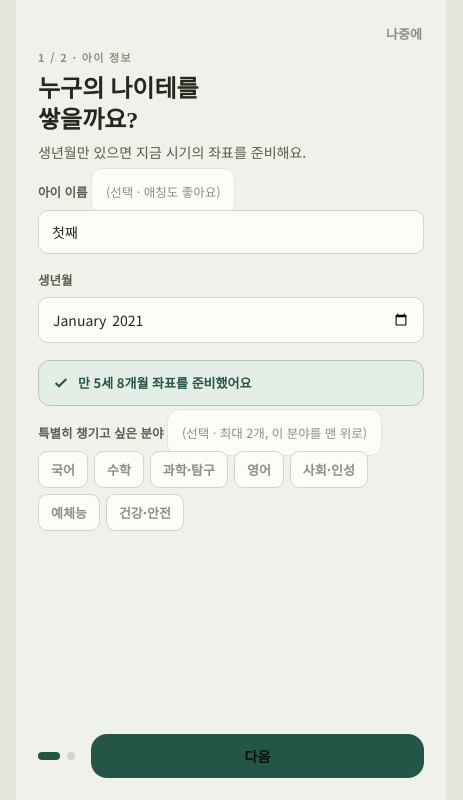
⭐ 빈 상태로 시작 + 셋업이 실제 데이터를 만든다 (제대로) › ⭐ §06-C 학원 칩(미술=등원형)을 누르면 예체능이 챙김으로 채워진다
Click the button "다음" at point(258, 756), box [91,734,424,778]
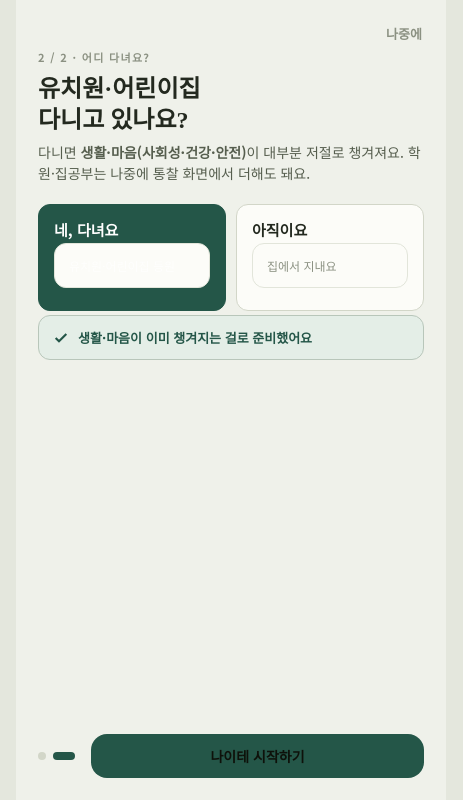
Click the button "나이테 시작하기" at point(258, 756), box [91,734,424,778]
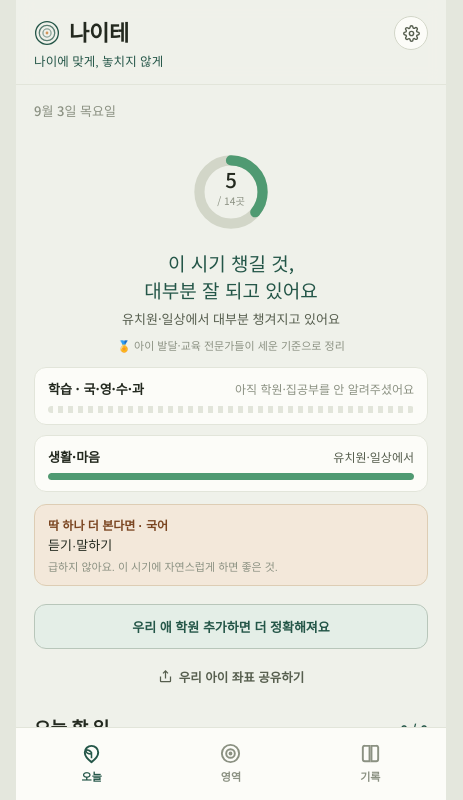
Click the button with test id "add-learn" at point(231, 627), box [34,604,428,649]
(page scrolled)
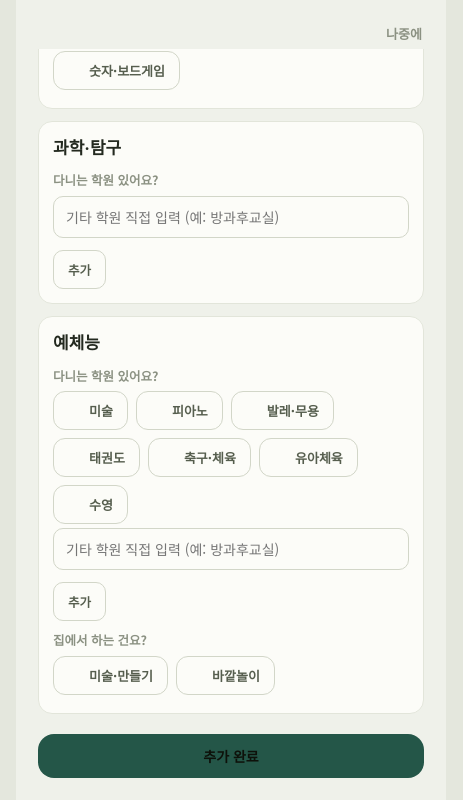
expect the element with test id "learn-picker" is shown: met
Click the button "미술" at point(90, 411), box [53,391,128,430]
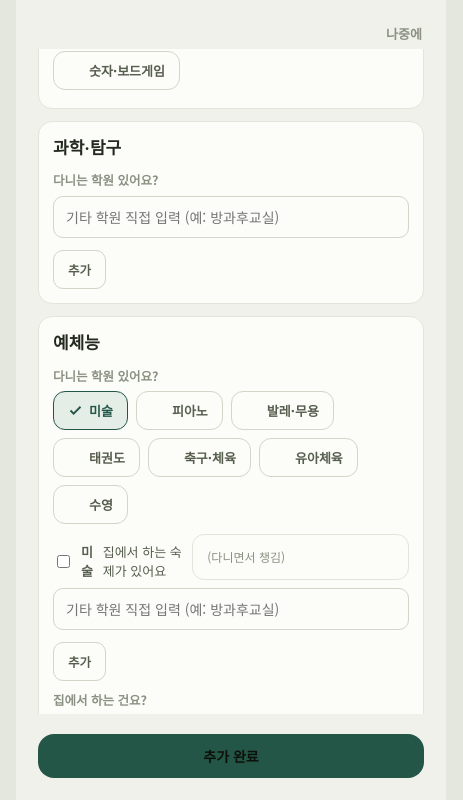
Click the button "추가 완료" at point(231, 756), box [38,734,424,778]
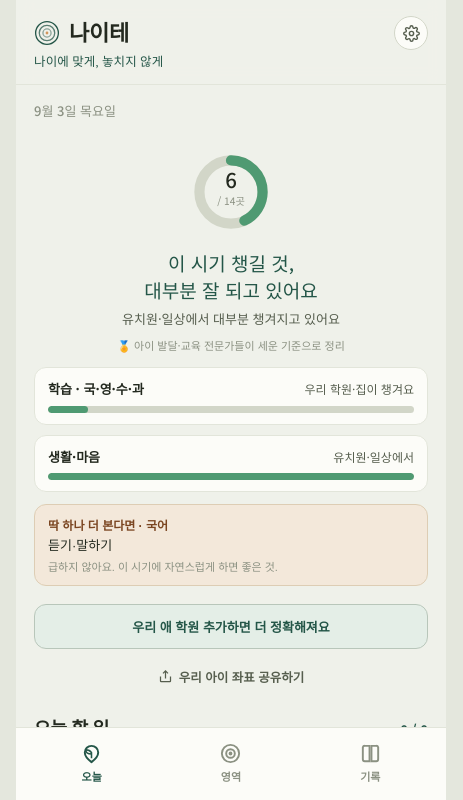
expect the text "우리 학원·집이 챙겨요" is shown: met, box [305,380,414,398]
